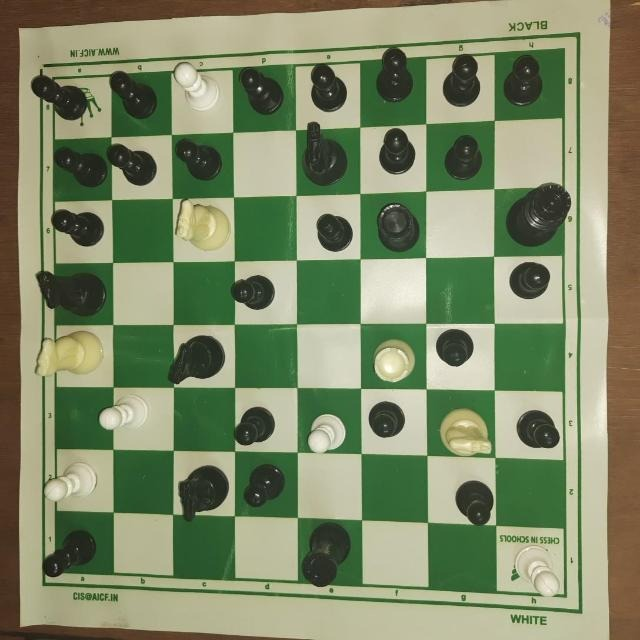black-knight: (30, 266, 111, 321), (172, 457, 232, 527), (295, 122, 353, 189), (167, 327, 229, 388)
black-pawn: (39, 522, 103, 580), (495, 47, 552, 111), (27, 71, 95, 122), (368, 43, 423, 105), (294, 56, 349, 117), (431, 51, 485, 111), (103, 68, 158, 126), (365, 124, 420, 181), (230, 68, 288, 122), (104, 138, 161, 192), (506, 406, 566, 456), (46, 204, 106, 254), (49, 140, 111, 187), (437, 128, 487, 185), (450, 472, 500, 529), (174, 132, 224, 189), (225, 266, 285, 313), (498, 255, 550, 307), (357, 398, 414, 444), (239, 462, 289, 513), (227, 400, 279, 448), (429, 326, 477, 376), (309, 206, 356, 256)
black-queen: (501, 178, 575, 244)
black-rook: (298, 519, 354, 589), (366, 200, 423, 255)
white-knight: (30, 329, 110, 384), (432, 400, 493, 462), (166, 200, 231, 256)
white-pawn: (508, 540, 566, 606), (166, 60, 221, 122), (95, 392, 157, 444), (39, 462, 103, 510), (305, 404, 347, 458)
white-rook: (359, 335, 419, 386)
